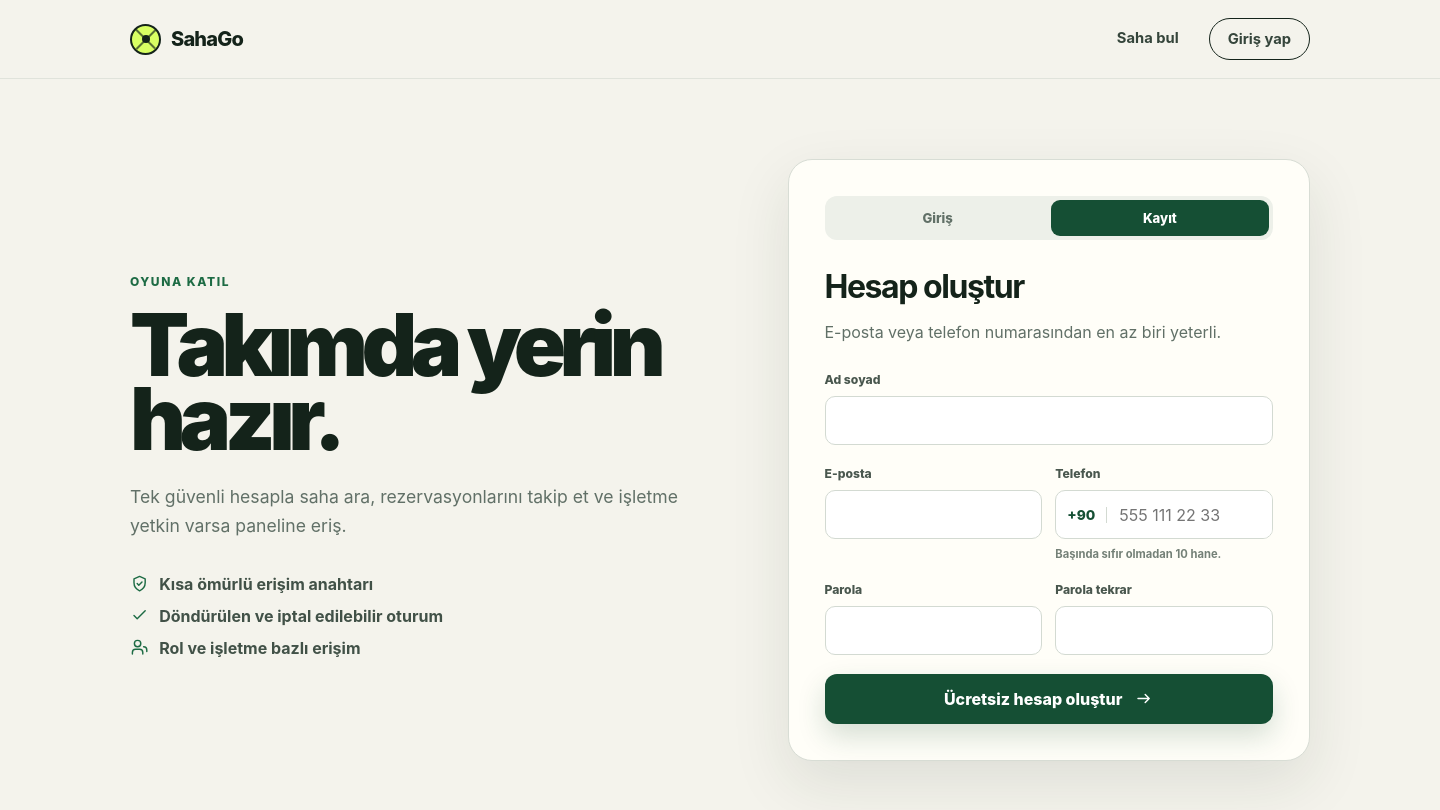
Test: frontend routes › registers a Turkish mobile number without asking the user to type the country code
The image size is (1440, 810).
Check: the heading "Hesap oluştur" is shown, box [824, 267, 1024, 306]
Type "Telefonlu Oyuncu" into the field labelled "Ad soyad" at point(1049, 420), box [824, 396, 1273, 445]
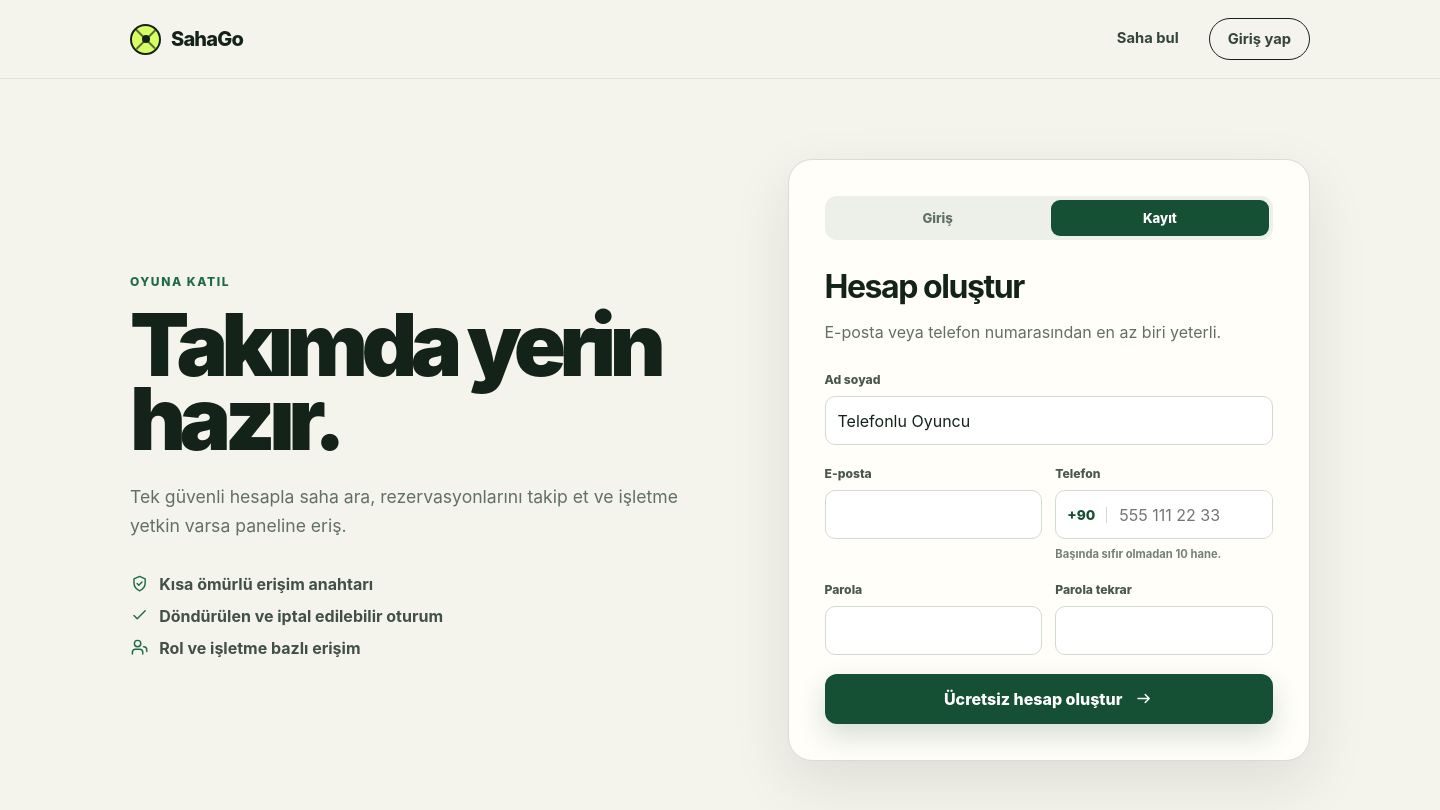
Type "0555 111 22 33" into the field labelled "Telefon" at point(1190, 514), box [1107, 491, 1272, 538]
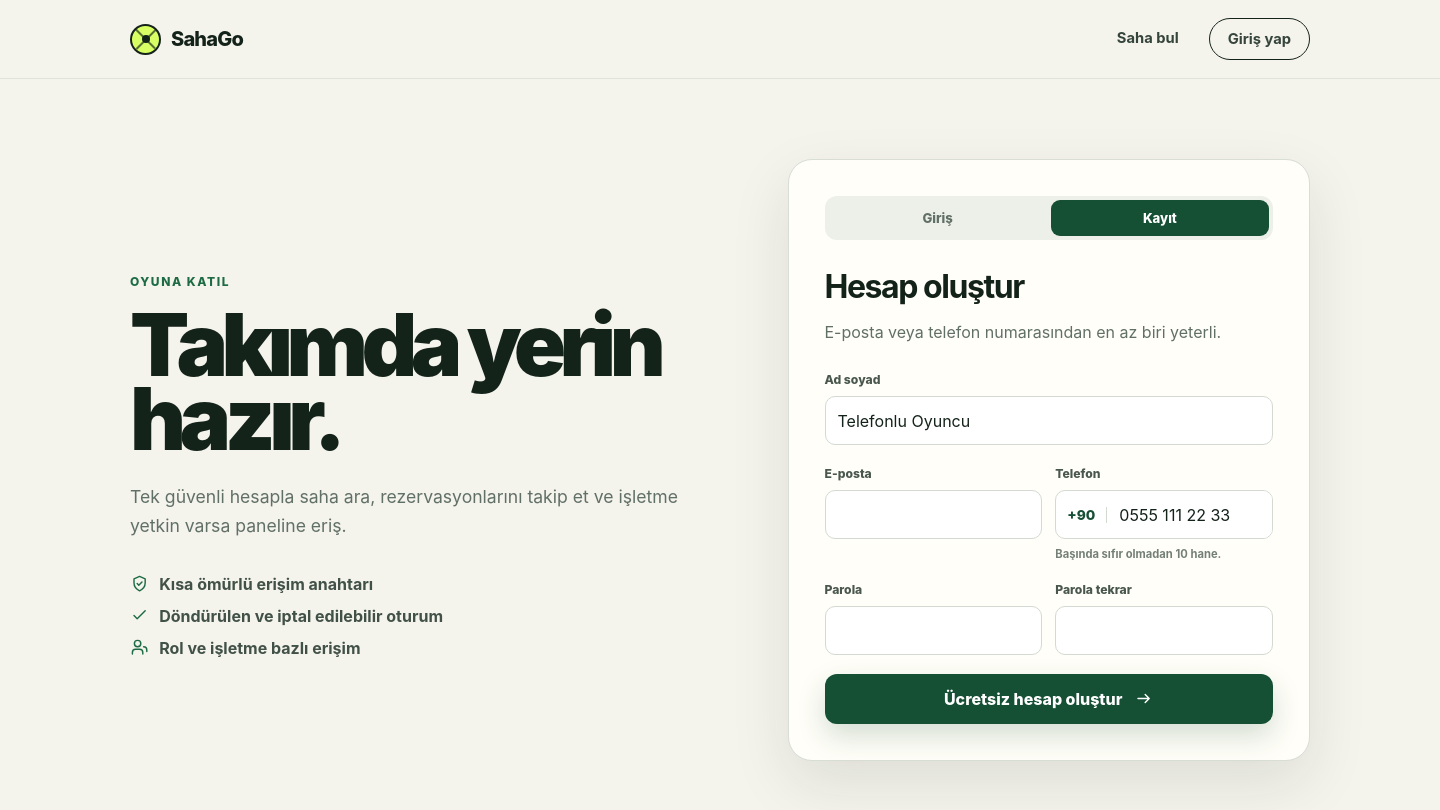
Type "Guvenli1234" into the password field labelled "Parola" at point(933, 630), box [824, 606, 1042, 655]
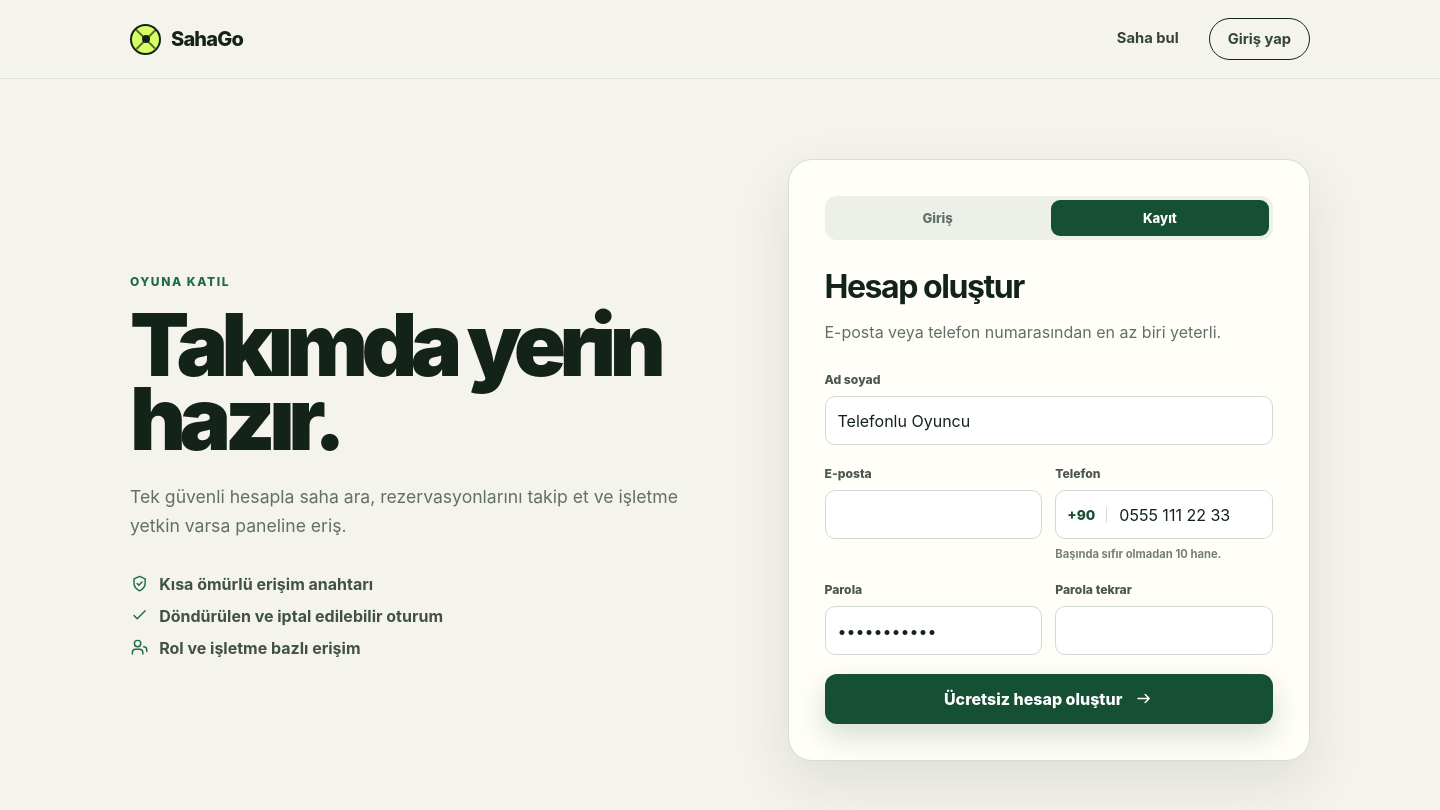
Type "Guvenli1234" into the password field labelled "Parola tekrar" at point(1164, 630), box [1055, 606, 1273, 655]
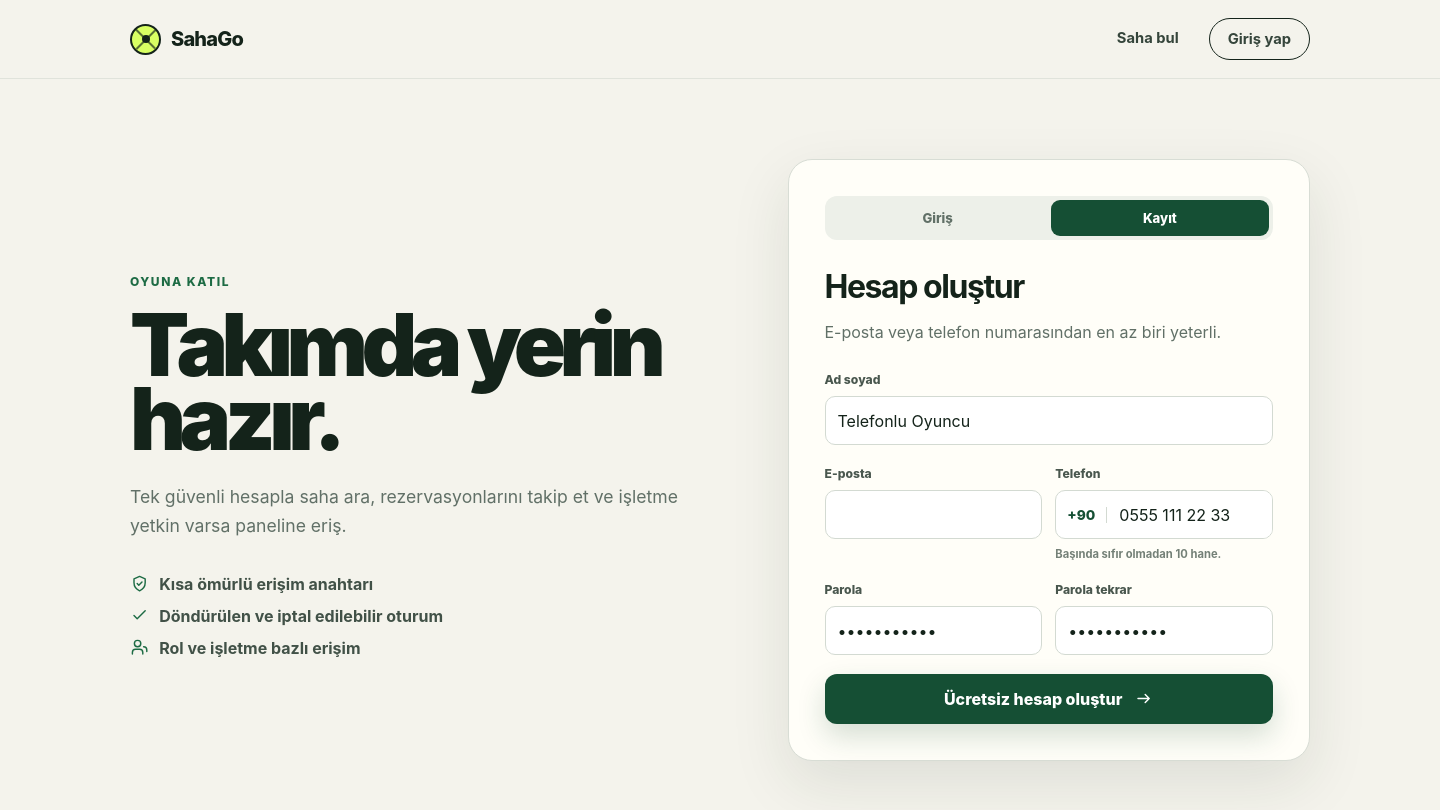
Click the button "Ücretsiz hesap oluştur" at point(1049, 699), box [824, 674, 1273, 724]
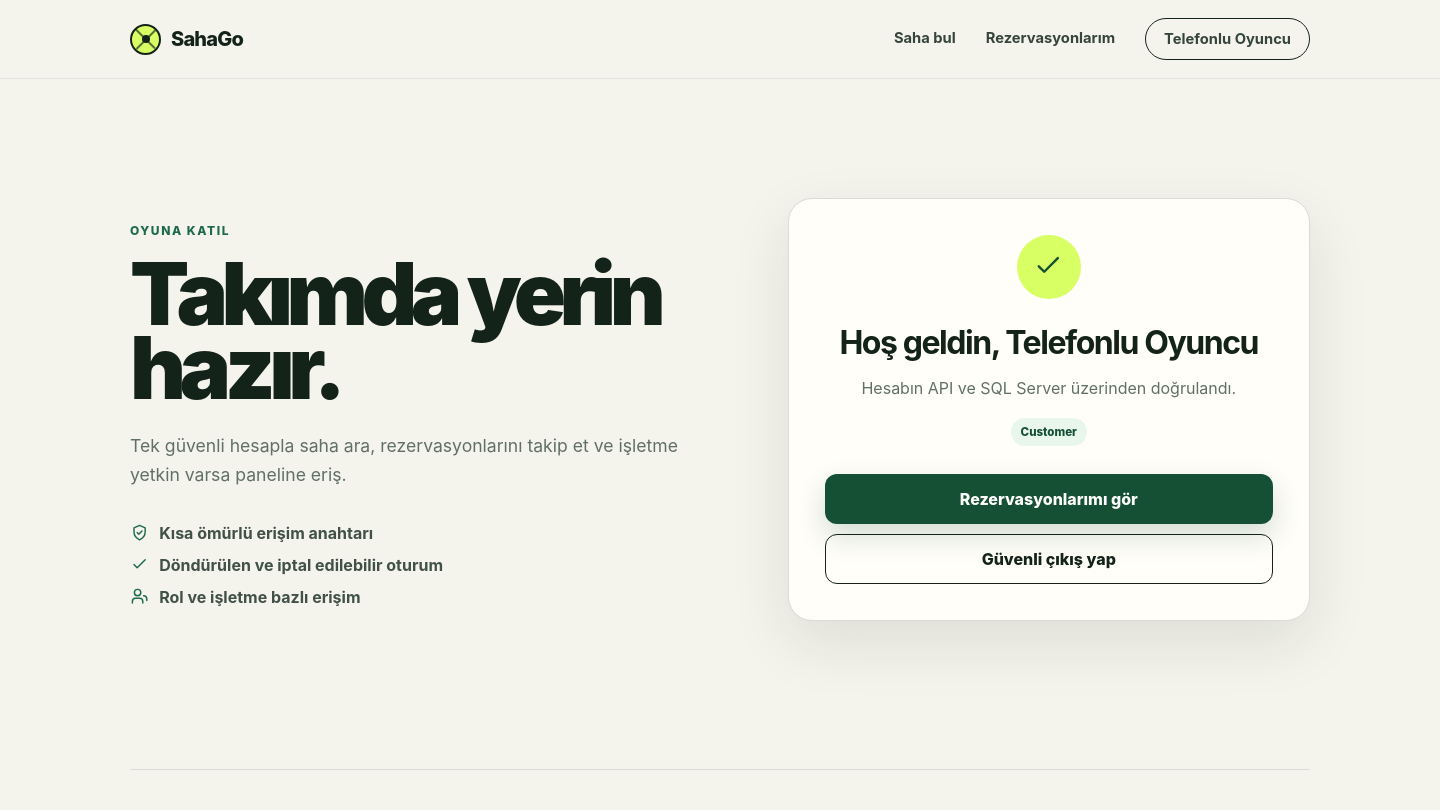
Check: the heading "Hoş geldin, Telefonlu Oyuncu" is shown, box [824, 322, 1273, 362]
